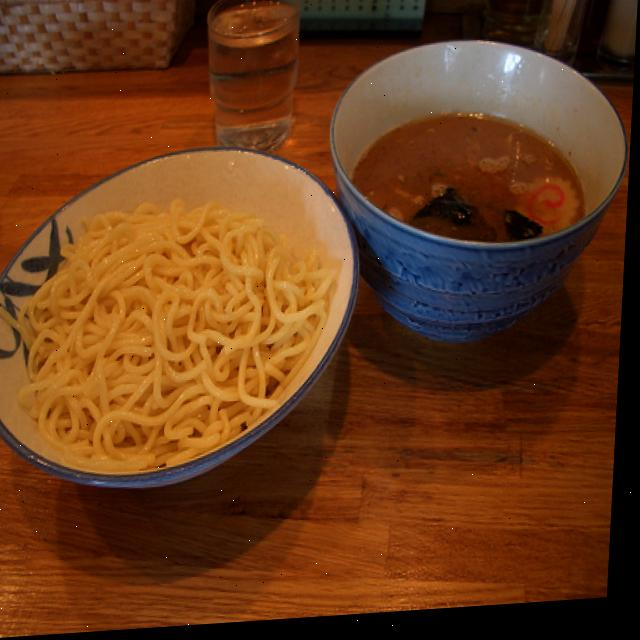面条主食: (12, 106, 601, 502)
